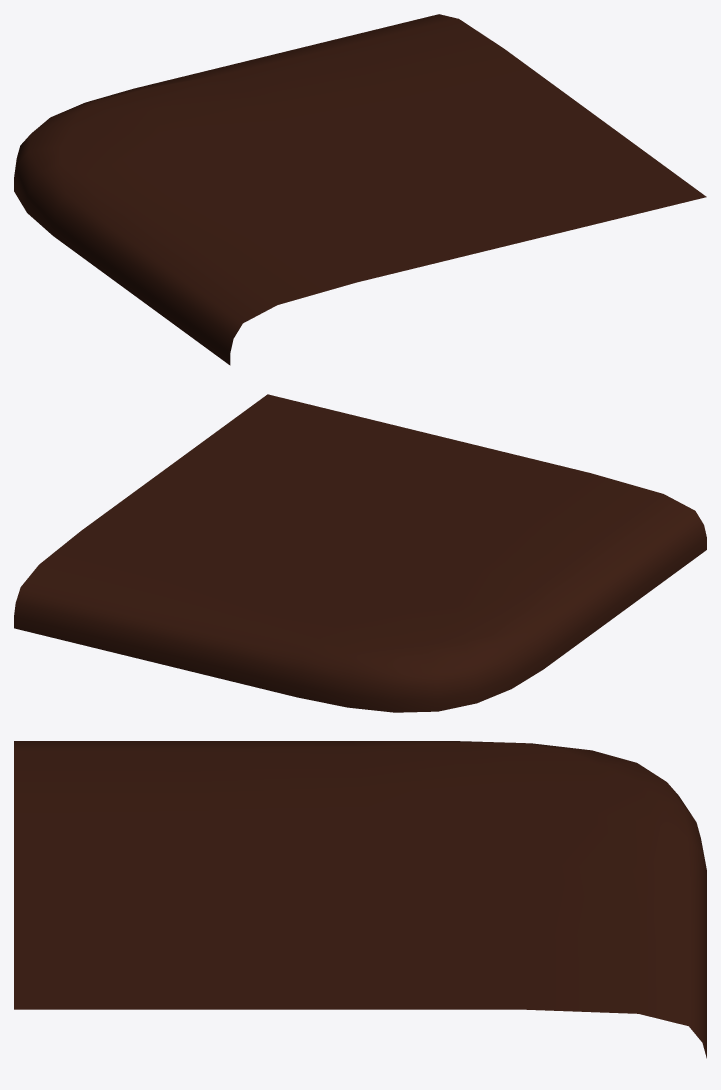
The model's file is Soil Corner.fbx.
3 renders of one model, top to bottom at view 1: azimuth 30°, elevation 25°; view 2: azimuth 150°, elevation 25°; view 3: azimuth 270°, elevation 25°, orthographic. The views are drawn at different scales.
Visible parts, largest first — view 1: Soil_Corner; view 2: Soil_Corner; view 3: Soil_Corner.
Part boxes in pixels (x1,y1,x2,y2): Soil_Corner: (14,14,706,365); Soil_Corner: (14,394,706,712); Soil_Corner: (14,741,706,1058).
Size of the model in its own units: 95 by 10 by 95.
Materials: 1 (1 with a texture image).
